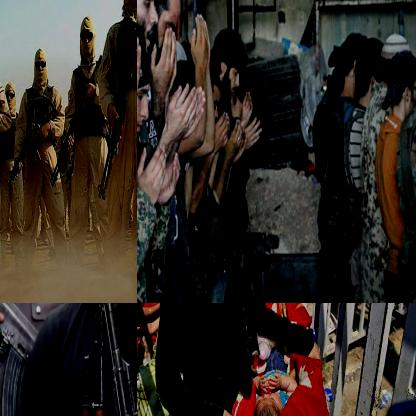rifle: (97, 4, 136, 204), (48, 62, 102, 195), (77, 303, 136, 415), (6, 100, 57, 192), (71, 303, 109, 415)
